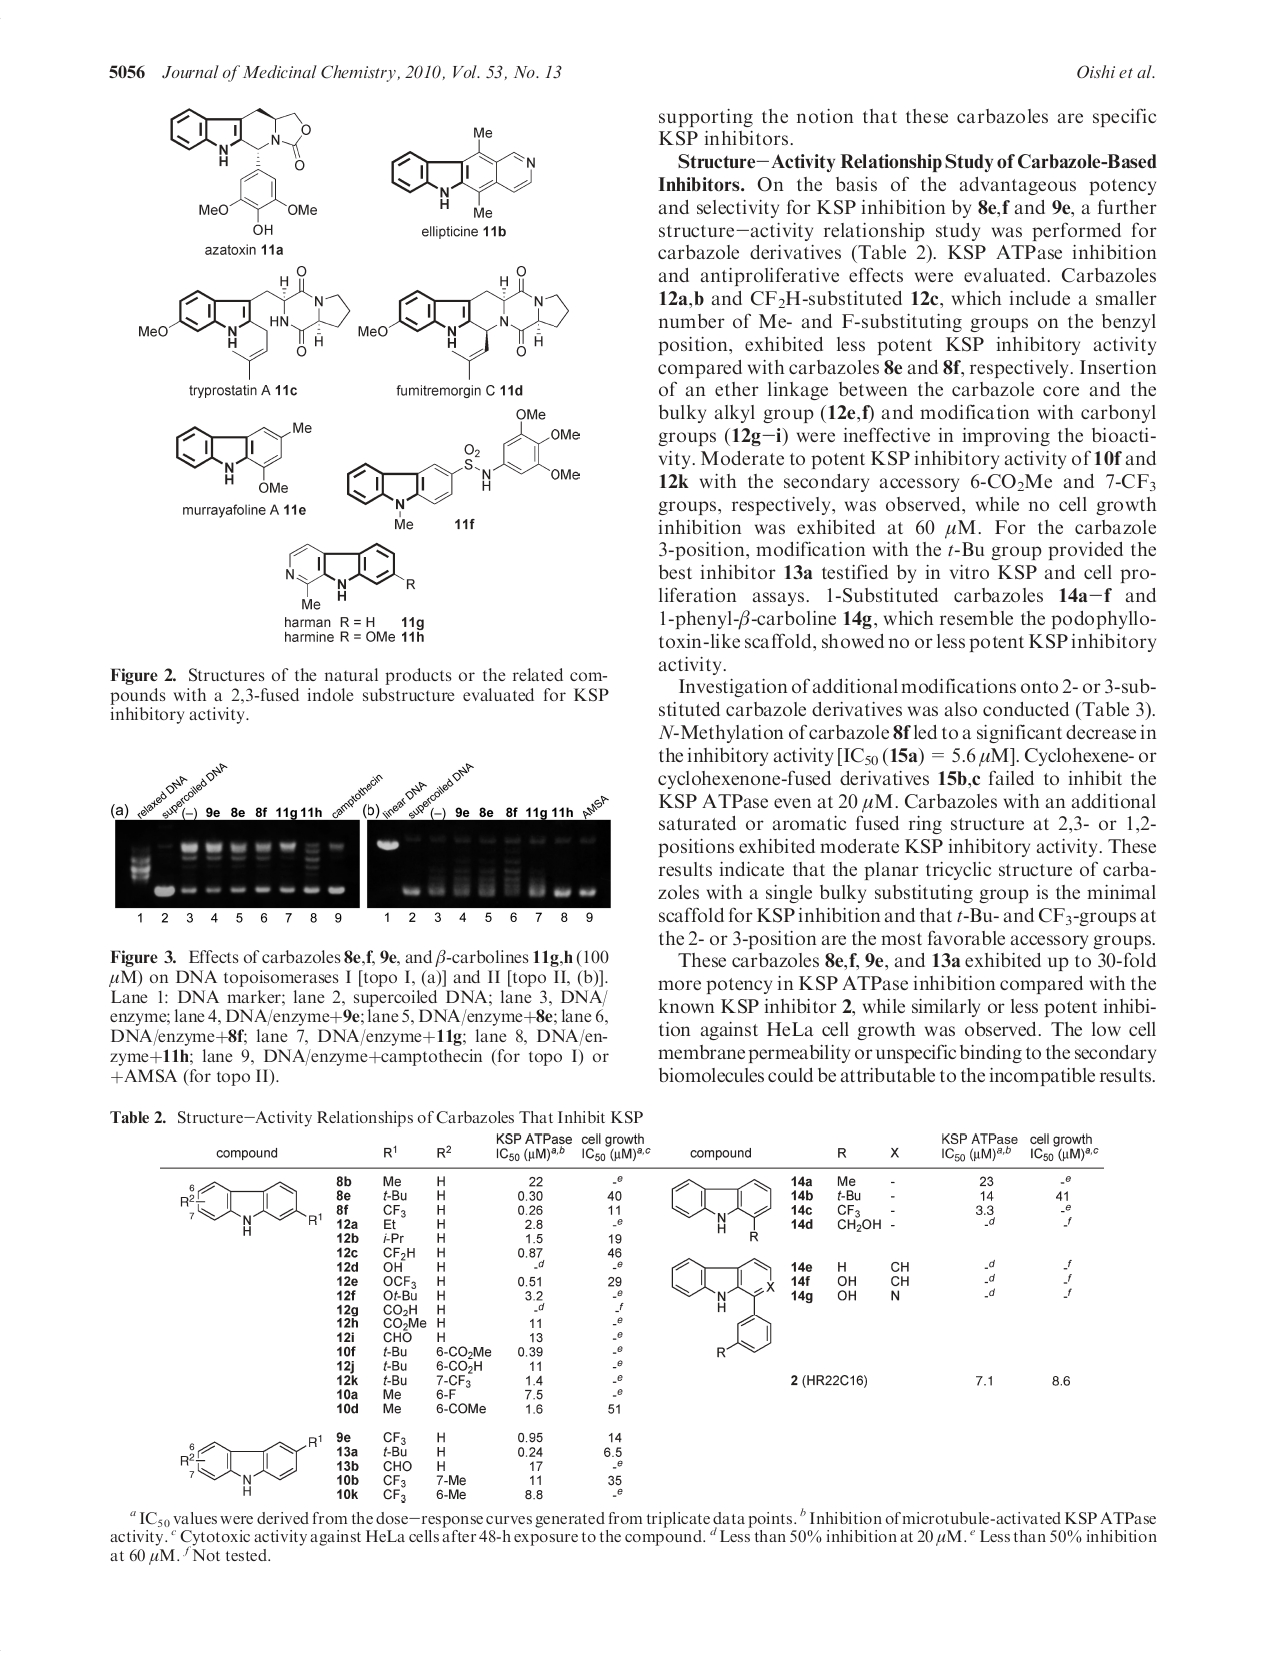exist_molecular: (344, 410, 582, 533), (355, 265, 569, 380), (140, 265, 352, 380), (168, 106, 319, 238), (390, 126, 537, 222), (176, 418, 315, 493), (670, 1258, 775, 1358), (178, 1431, 324, 1497), (286, 540, 418, 613), (177, 1180, 323, 1237), (668, 1177, 773, 1243)
